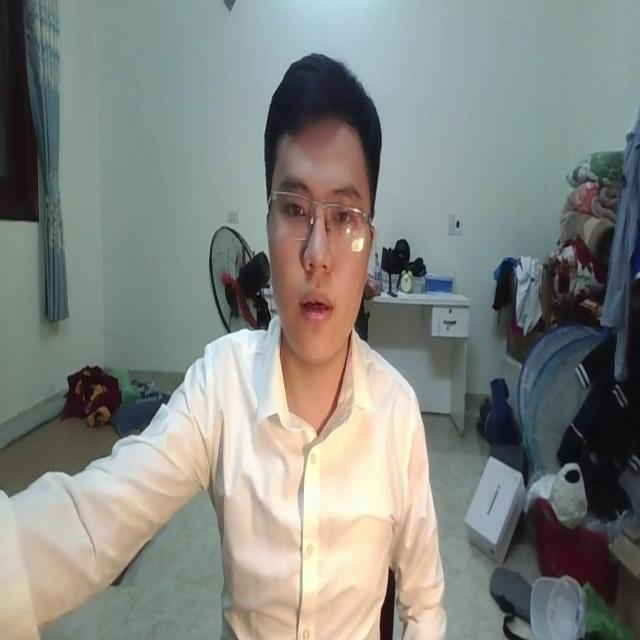student: (6, 55, 448, 640)
